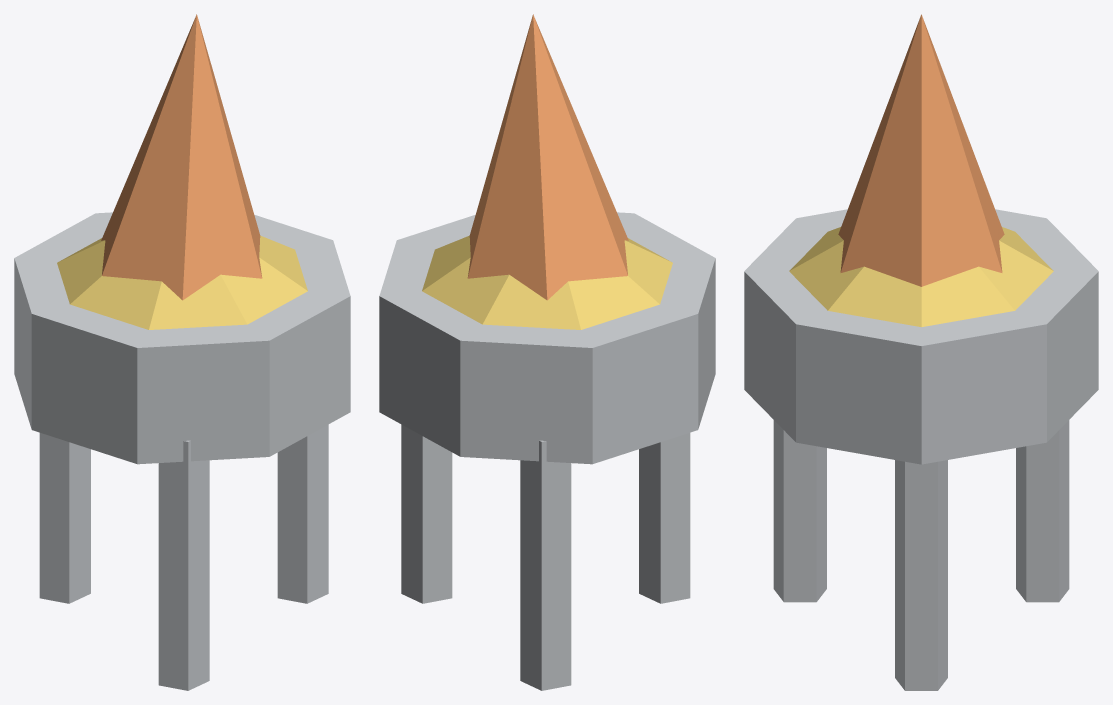
File: animprop_brazier_02.glb
The picture shows the model from 3 angles, left to right: view 1: azimuth 30°, elevation 25°; view 2: azimuth 150°, elevation 25°; view 3: azimuth 270°, elevation 25°; orthographic projection.
Parts seen in each view (by area): view 1: animprop; view 2: animprop; view 3: animprop.
Part boxes in pixels (left/top/right/bottom): animprop: left=14, top=14, right=350, bottom=690; animprop: left=379, top=14, right=715, bottom=690; animprop: left=744, top=14, right=1098, bottom=690.
Size of the model in its own units: 0.76 by 1.46 by 0.76.
